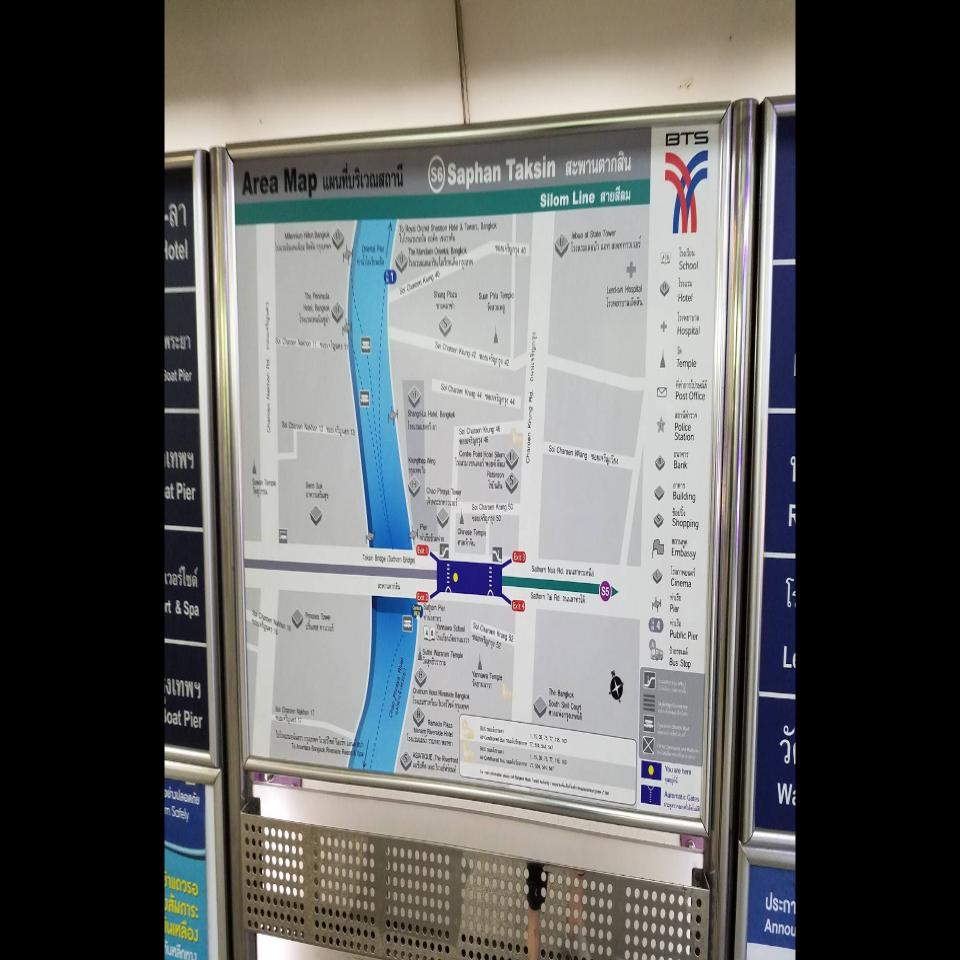signage: (427, 113, 651, 219)
